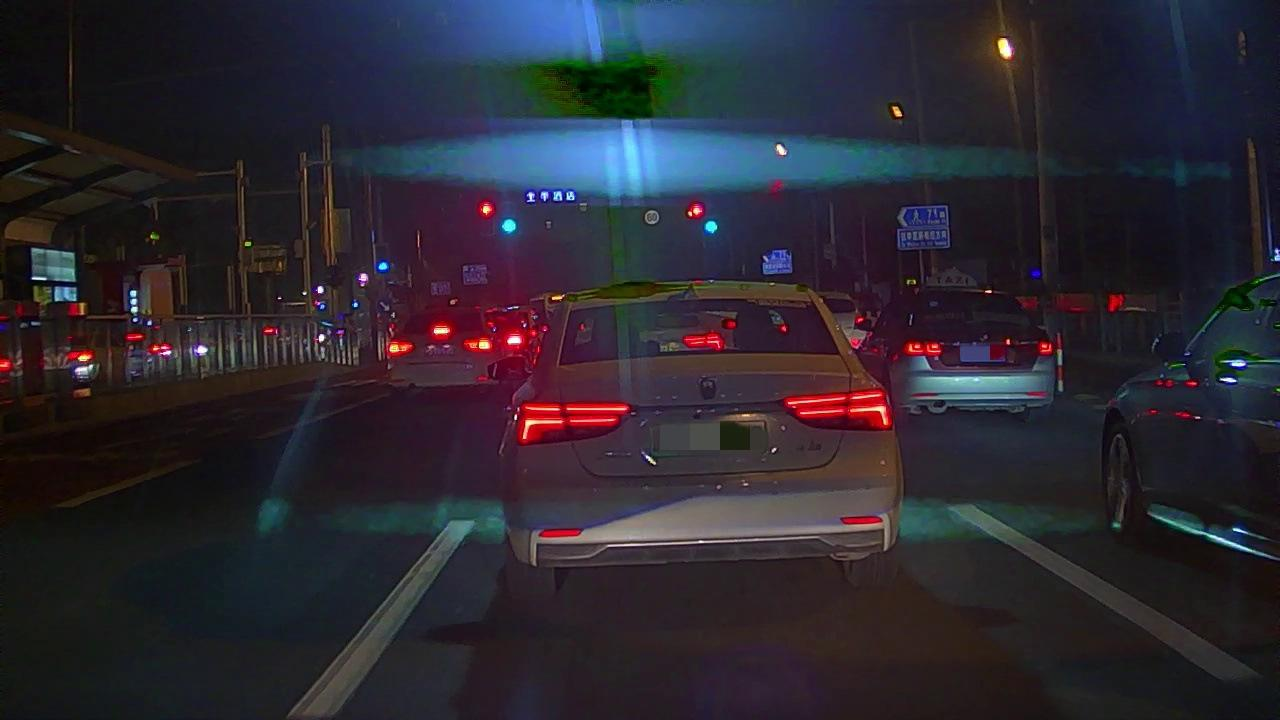traffic_light: (501, 219, 518, 232), (479, 203, 493, 216), (705, 220, 717, 233), (693, 205, 703, 216)
